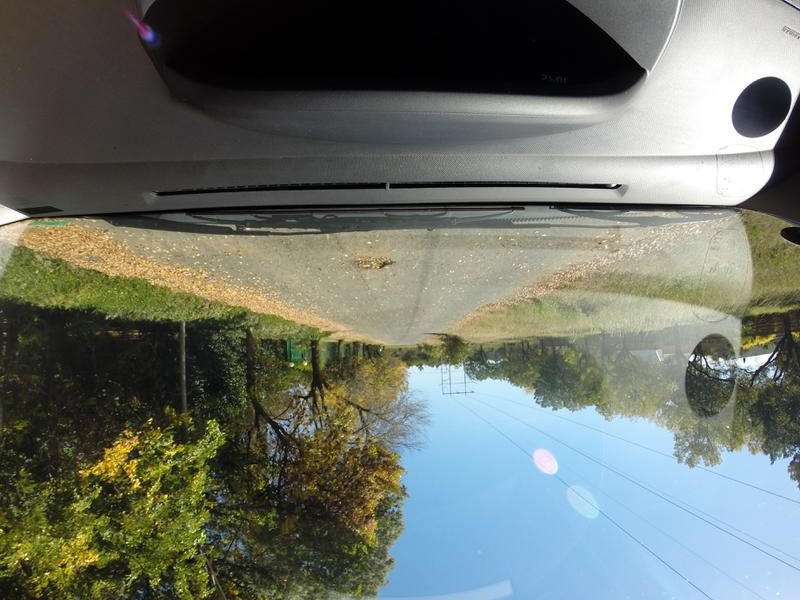pothole: (347, 247, 398, 278)
